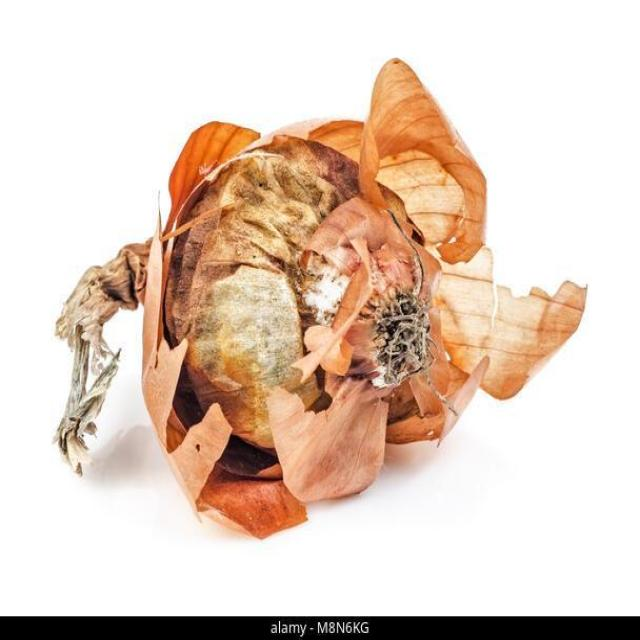Onion: (50, 54, 589, 543)
